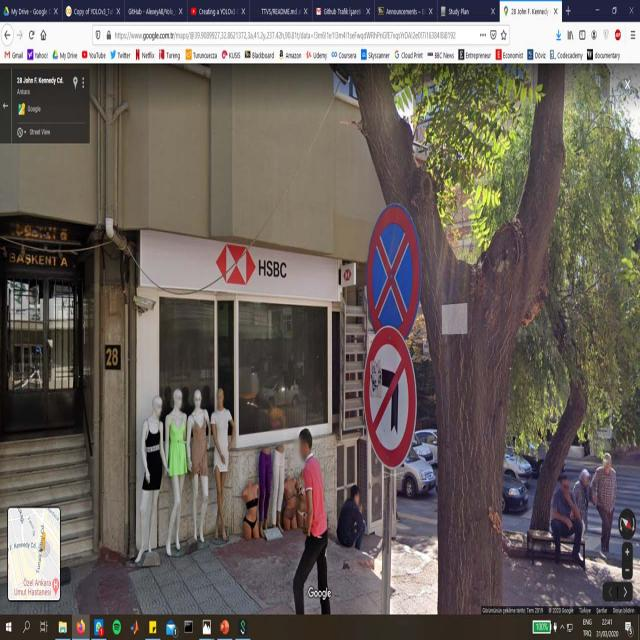soladonulmez: (363, 329, 415, 467)
